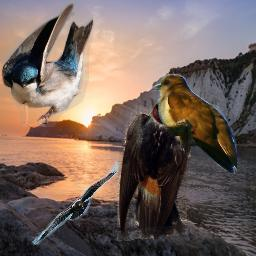Crow: (31, 161, 121, 245)
Cuckoo: (151, 74, 237, 176)
Swallow: (1, 2, 95, 127), (117, 99, 191, 241)
